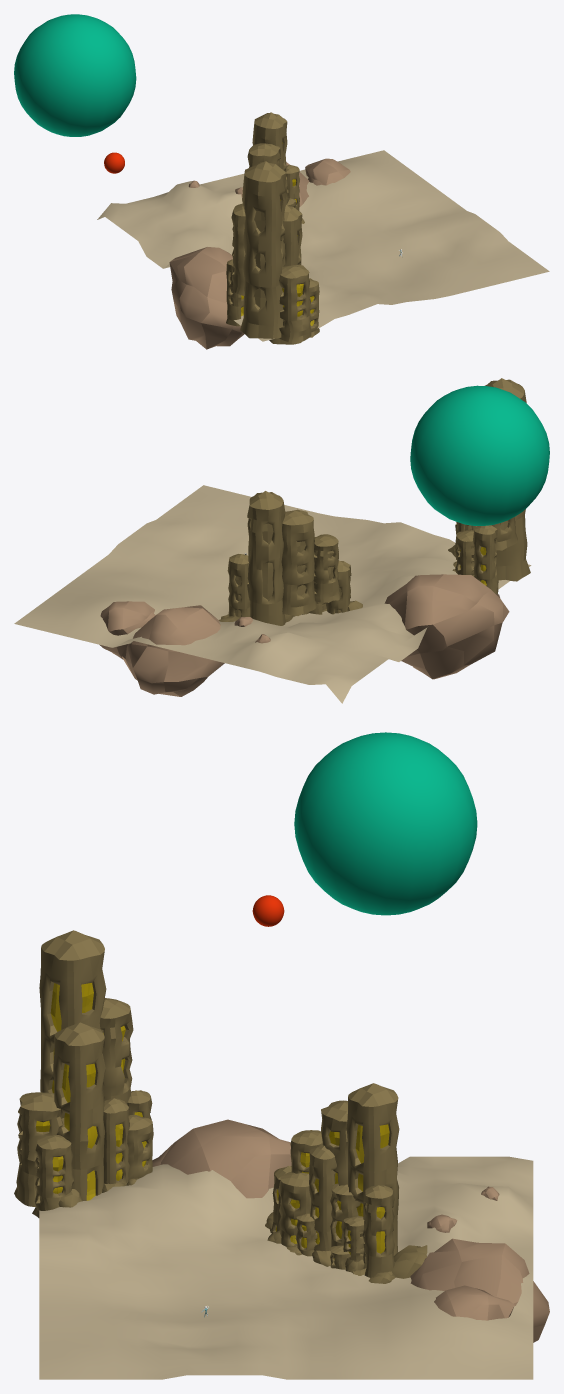
Rendered from Landscape1.fbx.
The picture shows the model from 3 angles, top to bottom: view 1: azimuth 30°, elevation 25°; view 2: azimuth 150°, elevation 25°; view 3: azimuth 270°, elevation 25°; orthographic projection. The views are drawn at different scales.
Visible parts, largest first — view 1: pPlane1, pSphere1, pasted__pCube6 (×2), pasted__pCube16, pasted__pCube13, pCube6, pasted__pasted__pCube1, pasted__pasted__pCube16, pasted__pCube4, pasted__pCube1, pasted__pCube5, pCube4; view 2: pPlane1, pSphere1, pasted__pCube16, pCube16, pCube6, pasted__pCube1, pasted__pCube6, pCube13, pasted__pasted__pCube16, pasted__pCube4, pCube4, pasted__pCube5 (+2 smaller); view 3: pPlane1, pSphere1, pasted__pCube6 (×2), pasted__pCube16, pCube16, pCube6, pasted__pCube5 (×2), pasted__pCube13, pasted__pasted__pCube1, pCube4, pCube2, pasted__pCube2 (+9 smaller).
Part boxes in pixels (x1=…): pPlane1: x1=97, y1=150, x2=549, y2=341; pSphere1: x1=14, y1=14, x2=136, y2=136; pasted__pCube6 (×2): x1=240, y1=161, x2=302, y2=344; pasted__pCube16: x1=169, y1=247, x2=244, y2=349; pasted__pCube13: x1=278, y1=264, x2=311, y2=343; pCube6: x1=252, y1=112, x2=287, y2=172; pasted__pasted__pCube1: x1=229, y1=203, x2=245, y2=295; pasted__pasted__pCube16: x1=305, y1=158, x2=350, y2=185; pasted__pCube4: x1=226, y1=259, x2=243, y2=326; pasted__pCube1: x1=247, y1=143, x2=280, y2=167; pasted__pCube5: x1=297, y1=278, x2=319, y2=337; pCube4: x1=286, y1=164, x2=299, y2=210; pPlane1: x1=14, y1=485, x2=531, y2=703; pSphere1: x1=410, y1=385, x2=549, y2=525; pasted__pCube16: x1=384, y1=574, x2=509, y2=679; pCube16: x1=121, y1=605, x2=224, y2=696; pCube6: x1=247, y1=491, x2=285, y2=625; pasted__pCube1: x1=281, y1=509, x2=316, y2=615; pasted__pCube6: x1=485, y1=378, x2=530, y2=581; pCube13: x1=313, y1=534, x2=340, y2=602; pasted__pasted__pCube16: x1=99, y1=601, x2=155, y2=659; pasted__pCube4: x1=473, y1=525, x2=498, y2=593; pCube4: x1=227, y1=554, x2=250, y2=617; pasted__pCube5: x1=455, y1=530, x2=484, y2=582; pPlane1: x1=39, y1=1156, x2=533, y2=1379; pSphere1: x1=294, y1=732, x2=477, y2=915; pasted__pCube6 (×2): x1=39, y1=930, x2=106, y2=1200; pasted__pCube16: x1=152, y1=1119, x2=291, y2=1198; pCube16: x1=410, y1=1238, x2=549, y2=1342; pCube6: x1=346, y1=1083, x2=399, y2=1255; pasted__pCube5 (×2): x1=32, y1=1114, x2=153, y2=1217; pasted__pCube13: x1=14, y1=1092, x2=67, y2=1207; pasted__pasted__pCube1: x1=83, y1=998, x2=133, y2=1104; pCube4: x1=362, y1=1185, x2=394, y2=1277; pCube2: x1=309, y1=1145, x2=337, y2=1251; pasted__pCube2: x1=103, y1=1098, x2=129, y2=1185.
Bounding box in the file's own units: 77.46 × 55.89 × 58.64.
